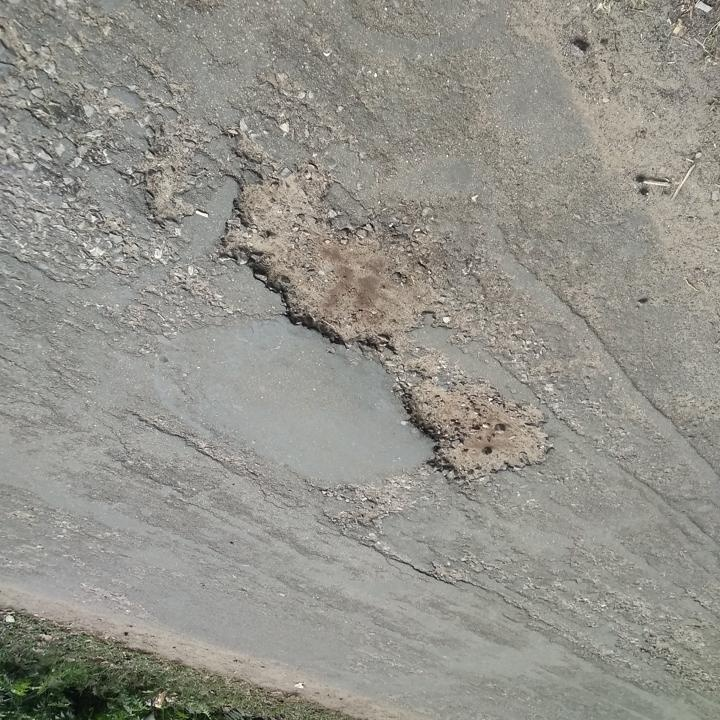pothole: (221, 173, 450, 353), (388, 367, 561, 490), (140, 161, 198, 222)
